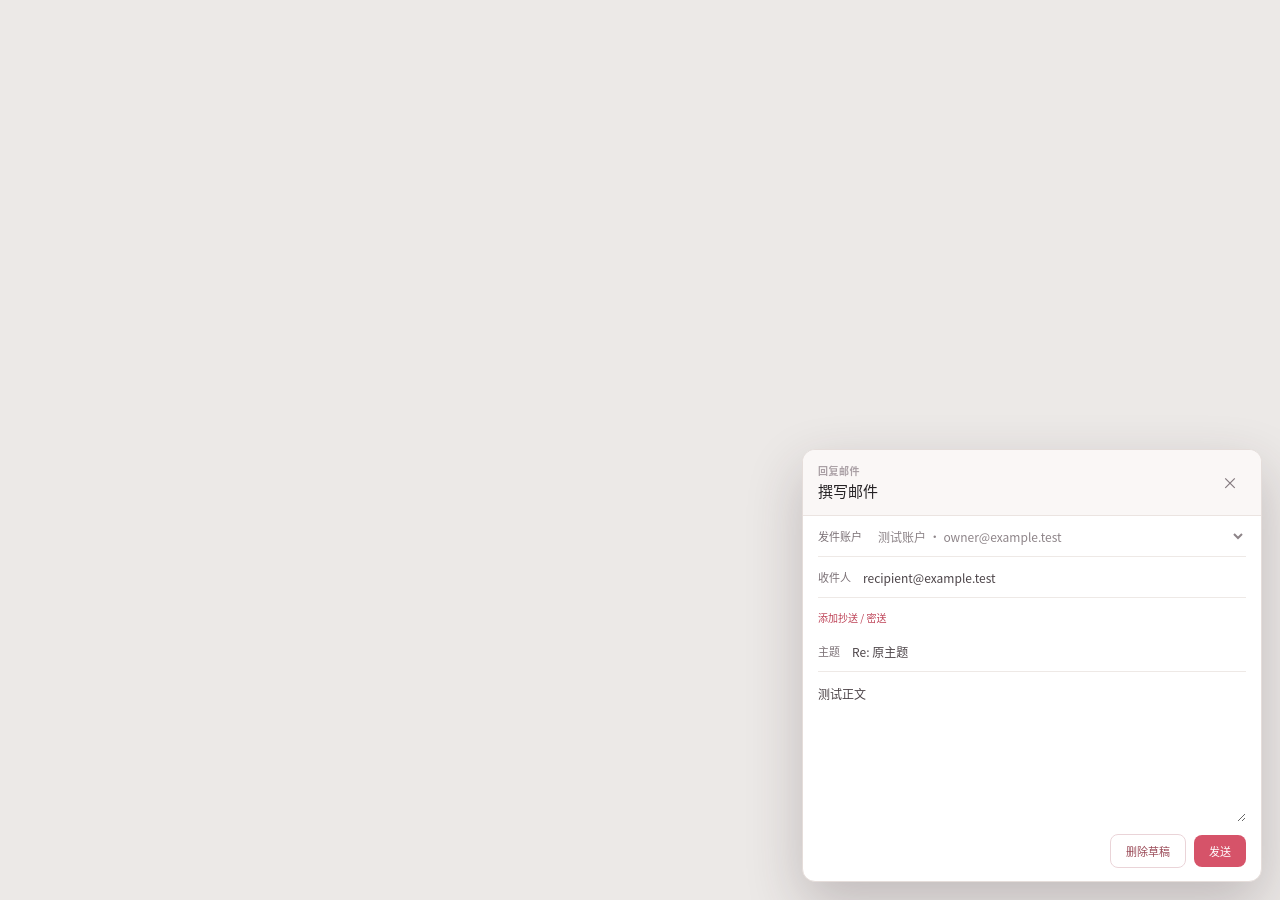
Test: ComposePanel › 回复草稿锁定原账户且离线发送只保留草稿
Expected: the dropdown labelled "发件账户" is disabled, [874,516,1246,556]
Click the button "发送".
click(1220, 851)  # box [1194,834,1246,867]
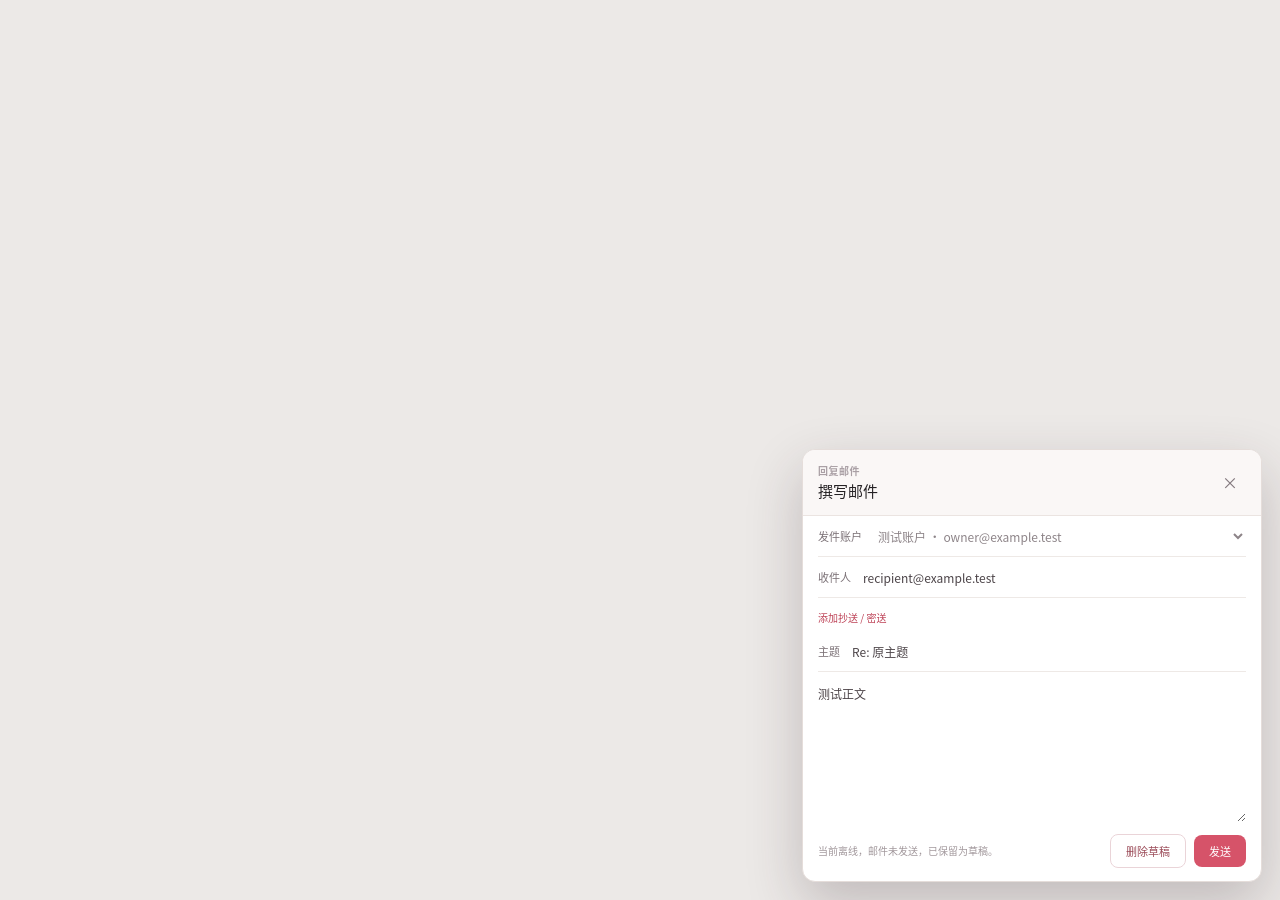
Result: the text "当前离线，邮件未发送，已保留为草稿。" is shown at [818,843,998,858]
